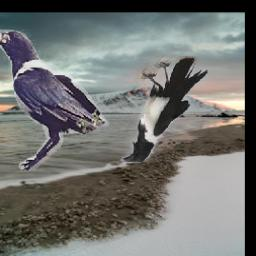Crow: (0, 30, 109, 170), (122, 57, 208, 163)
